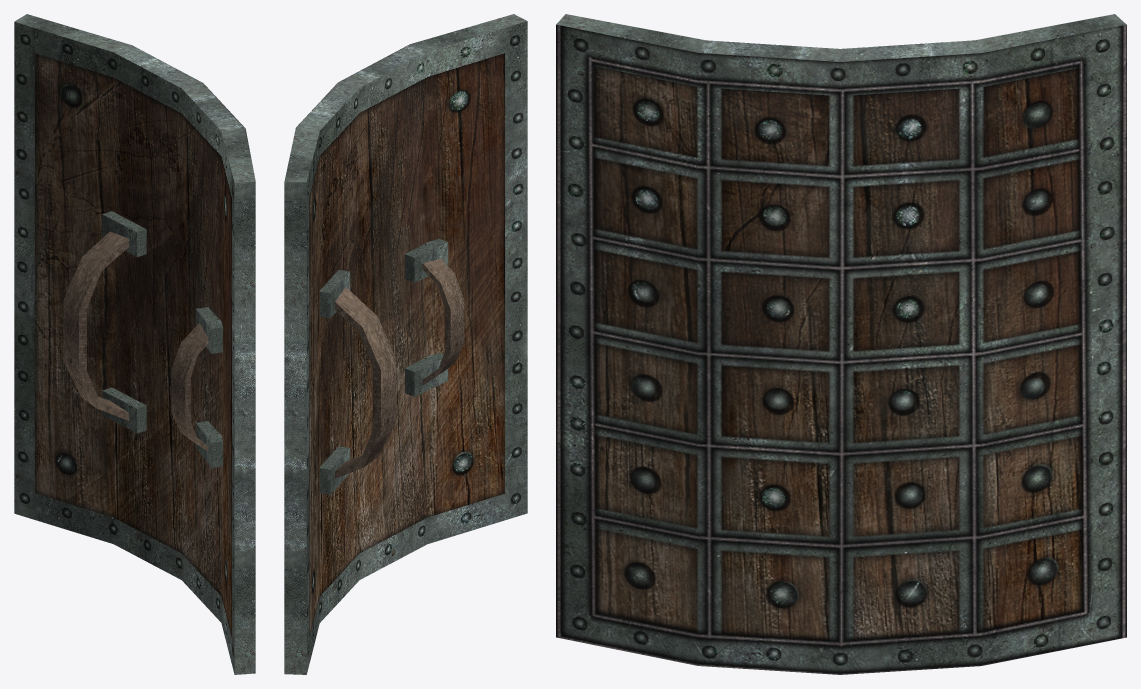
The model's file is shield_01.FBX.
3 views of the same model, side by side, from view 1: azimuth 30°, elevation 25°; view 2: azimuth 150°, elevation 25°; view 3: azimuth 270°, elevation 25° (orthographic). The views are drawn at different scales.
Visible parts, largest first — view 1: square_shield_1; view 2: square_shield_1; view 3: square_shield_1.
Boxes of the visible parts, x1=… form: square_shield_1: x1=14, y1=14, x2=255, y2=674; square_shield_1: x1=284, y1=14, x2=527, y2=674; square_shield_1: x1=556, y1=14, x2=1126, y2=674.
Size of the model in its own units: 14.1 by 72.51 by 61.2.
